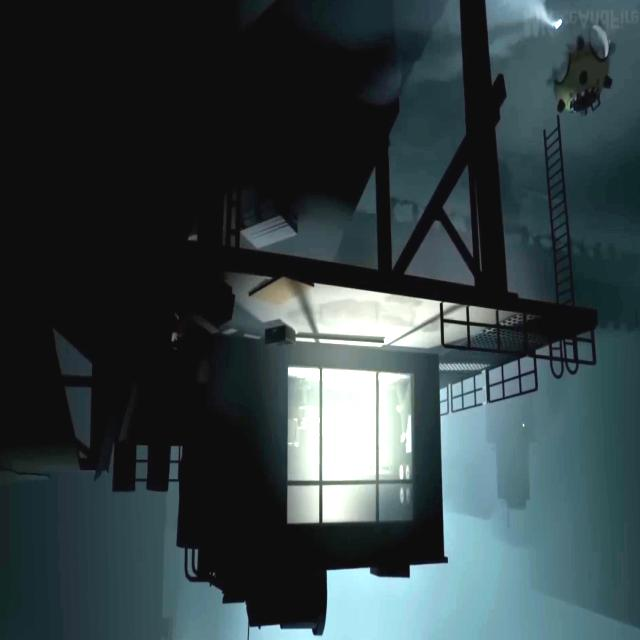human: (396, 380, 411, 446)
